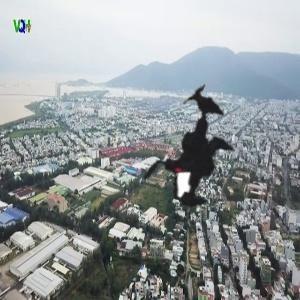drone: (95, 56, 279, 240)
